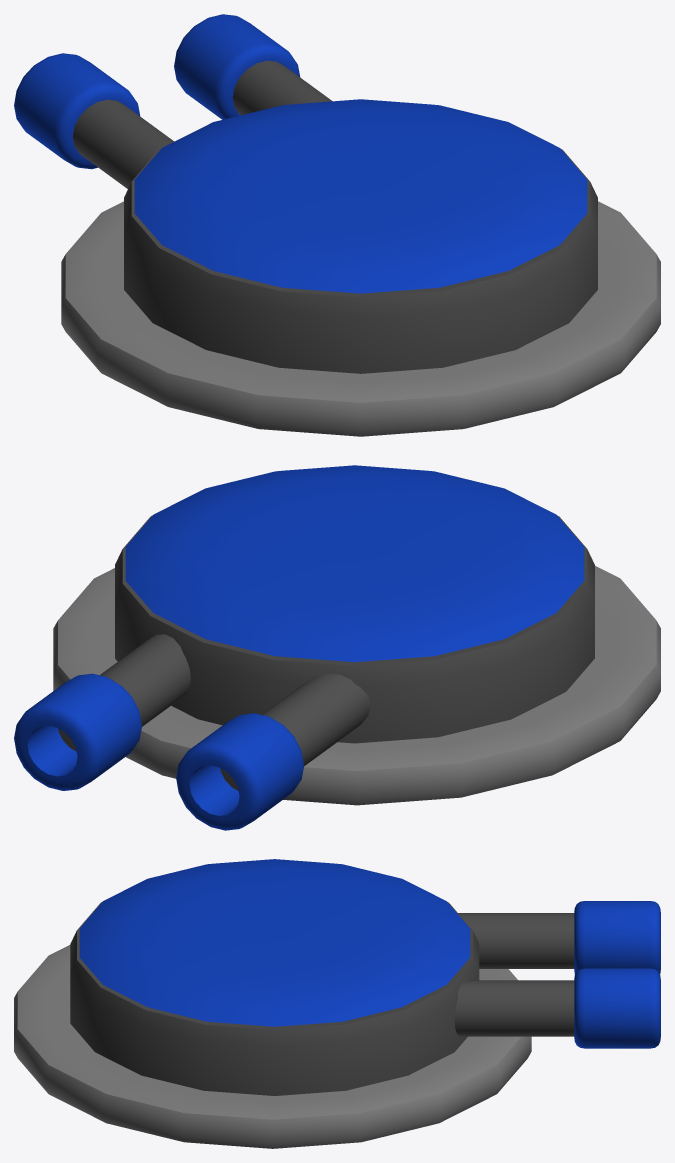
The model's file is TruckTopWeaponTest.fbx.
The picture shows the model from 3 angles, top to bottom: view 1: azimuth 30°, elevation 25°; view 2: azimuth 150°, elevation 25°; view 3: azimuth 270°, elevation 25°; orthographic projection. The views are drawn at different scales.
Parts seen in each view (by area): view 1: TruckWeapon; view 2: TruckWeapon; view 3: TruckWeapon.
Boxes of the visible parts, <box> form: TruckWeapon: <box>14,14,660,436</box>; TruckWeapon: <box>14,465,660,830</box>; TruckWeapon: <box>14,859,660,1148</box>.
Size of the model in its own units: 83.95 by 20.28 by 103.
